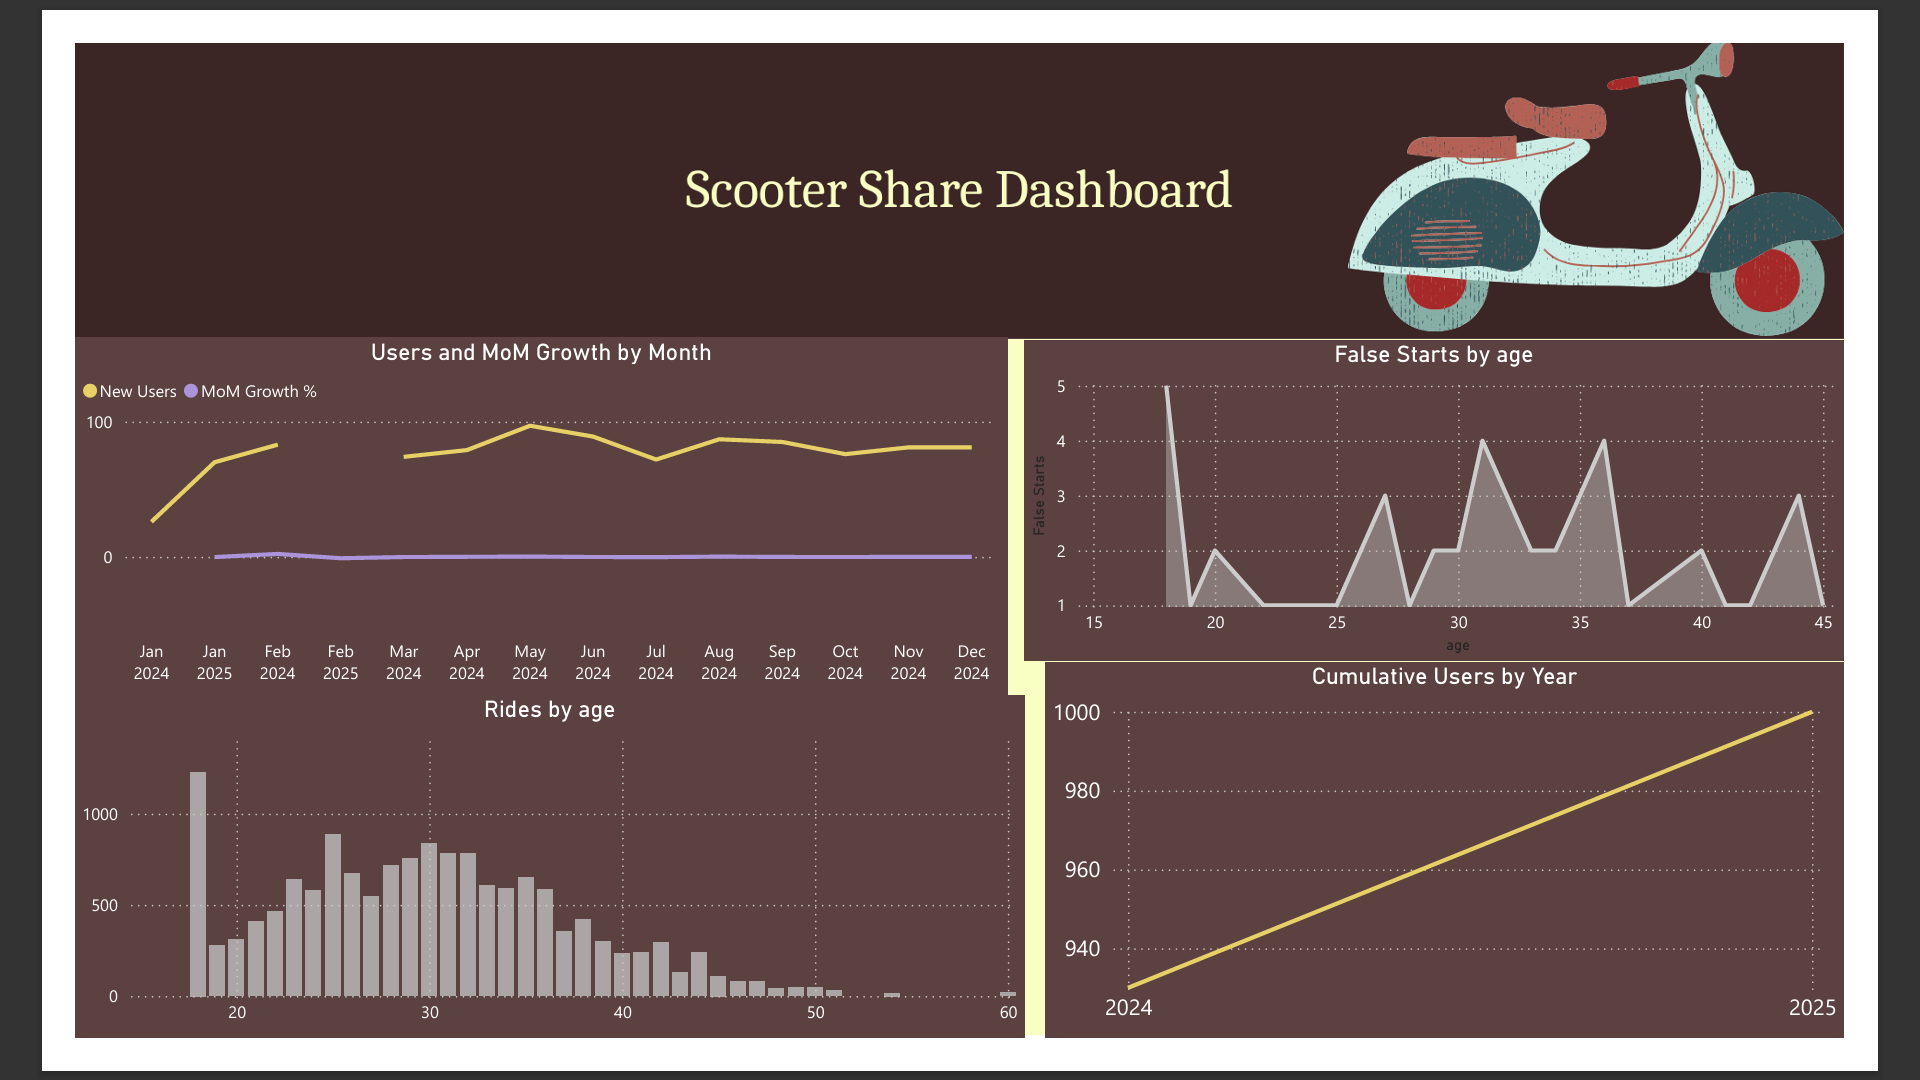

The page's visual inventory and layout, read from the dashboard file:
{"tool":"powerbi","page":{"name":"Users Growth","canvas":[1280,720],"ordinal":5},"visuals":[{"type":"lineChart","title":"Users and MoM Growth by Month","fields":{"Y":["user measurements.New Users","user measurements.MoM Growth %"],"Category":["Date.Month Year"]},"box":[0,435.7,655.7,280],"z":0},{"type":"lineChart","fields":{"Category":["Date.Year"],"Y":["Date.Cumulative Users"]},"box":[655.7,447.1,624.3,272.9],"z":1000},{"type":"columnChart","title":"Rides by age","fields":{"Y":["rides measurements.Total Rides"],"Category":["users.age"]},"box":[0,214.3,670,222.9],"z":1001},{"type":"areaChart","fields":{"Category":["users.age"],"Y":["rides measurements.False Starts"]},"box":[670,214.3,610,232.9],"z":1002}]}

Visuals, with their boxes in screenshot pixels (x1, y1, x2, y2), scaled from the page's 1280x720 canvas onto the 1920x1080 screenshot:
"Users and MoM Growth by Month" lineChart: {"x1": 0, "y1": 654, "x2": 984, "y2": 1074}
lineChart - Date.Year x Date.Cumulative Users: {"x1": 984, "y1": 671, "x2": 1919, "y2": 1079}
"Rides by age" columnChart: {"x1": 0, "y1": 321, "x2": 1005, "y2": 656}
areaChart - users.age x rides measurements.False Starts: {"x1": 1005, "y1": 321, "x2": 1919, "y2": 671}
